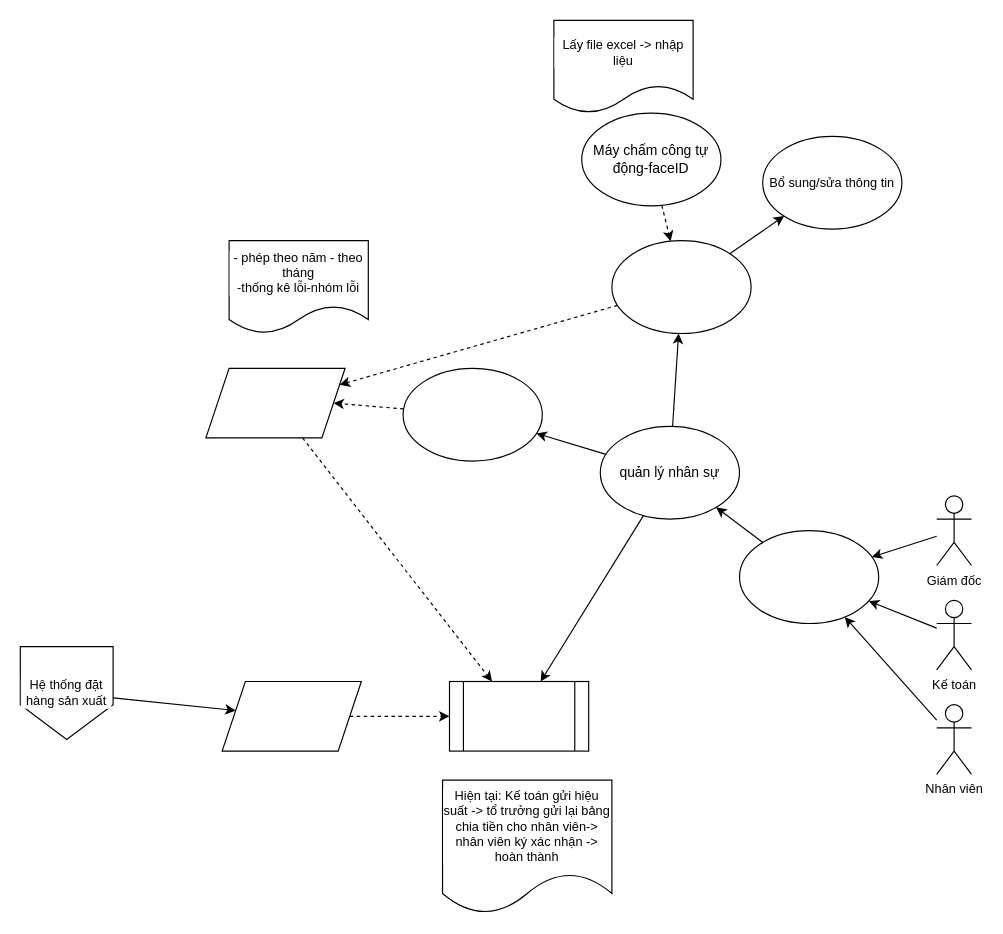
Some shapes in this 1003 by 934 pixel diagram are drawn without their labels. Here are the shapes that lost their labels. From the top down, the centre of each, then its label:
the point at 681,287: Chấm công
the point at 472,414: quản lý ngày phép
the point at 808,577: Đăng nhập
the point at 291,715: Hiệu suất làm viêc của tổ sản xuất
the point at 518,715: Tính lương-thưởng
